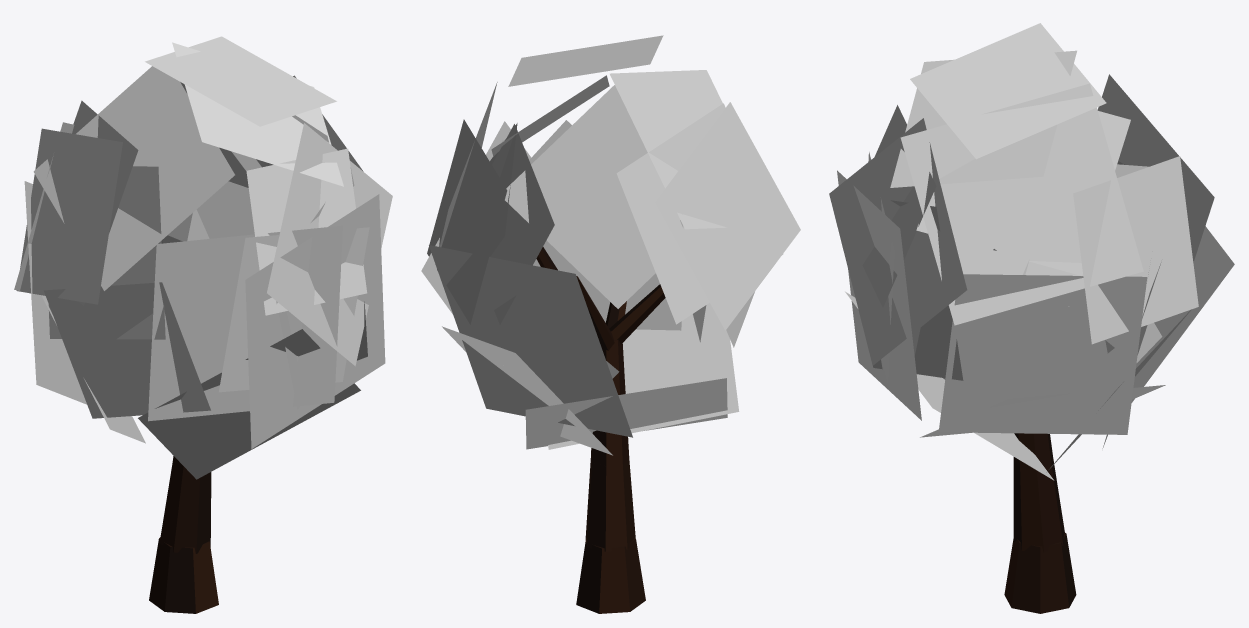
Rendered from leafy-tall.glb.
The picture shows the model from 3 angles, left to right: view 1: azimuth 30°, elevation 25°; view 2: azimuth 150°, elevation 25°; view 3: azimuth 270°, elevation 25°; orthographic projection.
Visible parts, largest first — view 1: crown, trunk; view 2: crown, trunk; view 3: crown, trunk.
Part boxes in pixels (x1,y1,x2,y2): crown: [14, 36, 392, 479]; trunk: [149, 456, 218, 613]; crown: [421, 35, 800, 455]; trunk: [536, 247, 665, 613]; crown: [829, 23, 1234, 480]; trunk: [1004, 433, 1076, 613].
Size of the model in its own units: 3.69 by 5.94 by 3.82.
